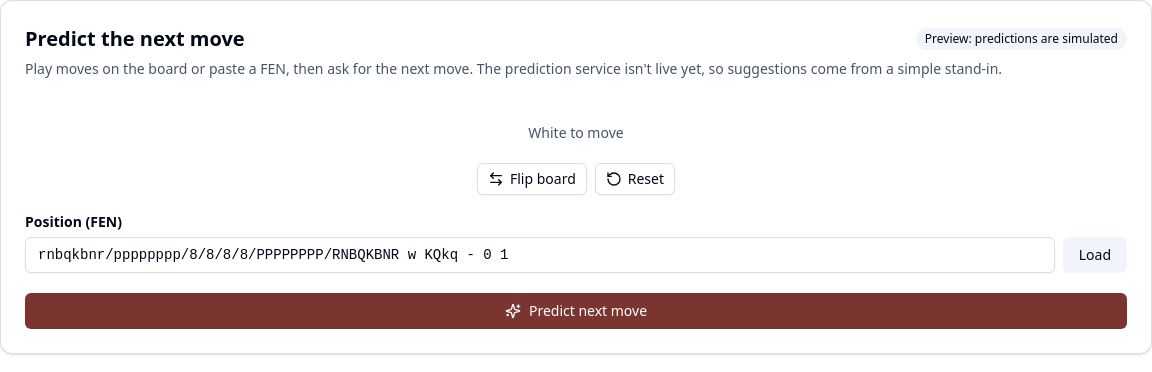
it: PositionPredictor › loads a valid FEN onto the board and updates the side to move
Replace the text in the field labelled "Position (FEN)" with "rnbqkbnr/pppppppp/8/8/4P3/8/PPPP1PPP/RNBQKBNR b KQkq - 0 1" at (540, 255), box x1=25 y1=237 x2=1055 y2=273
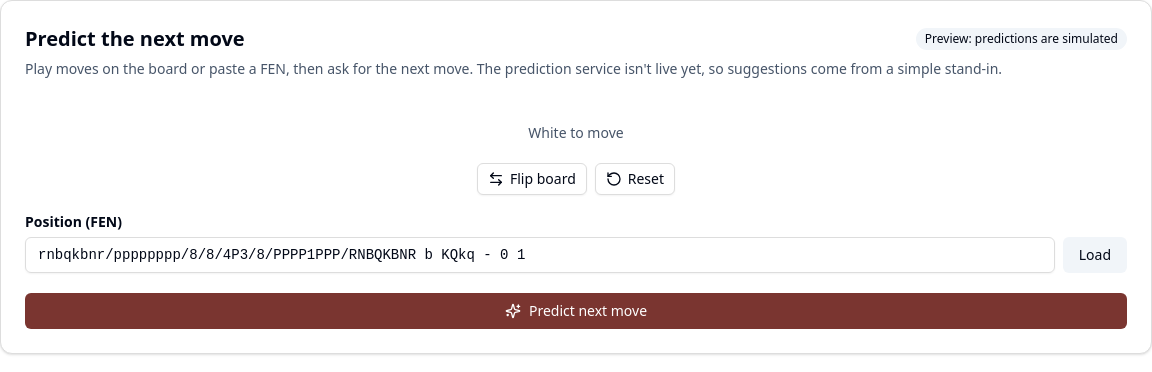
Submit the form, box x1=25 y1=215 x2=1127 y2=273
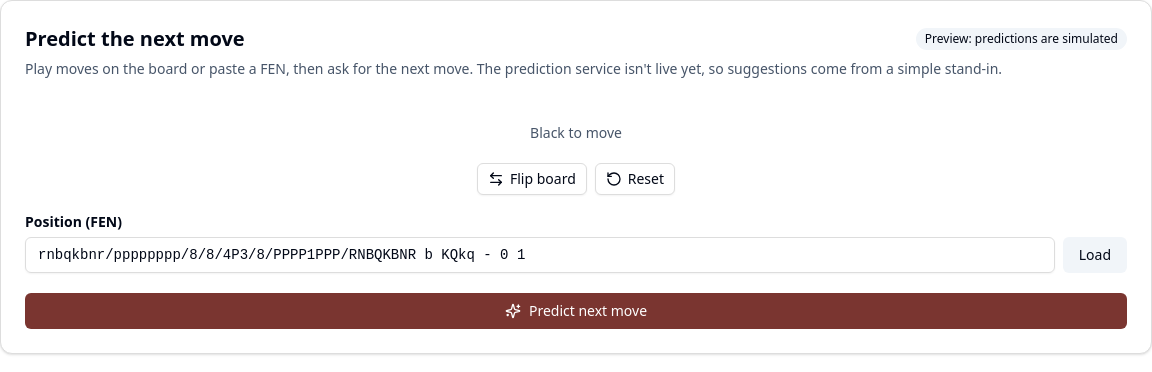
Expected: the text with test id "side-to-move" reads "Black to move", x1=530 y1=123 x2=622 y2=142
